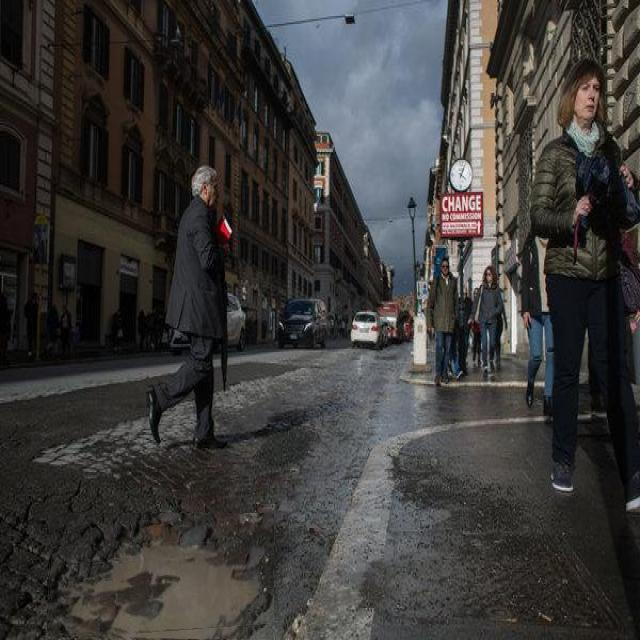Pothole: (47, 513, 274, 640)
